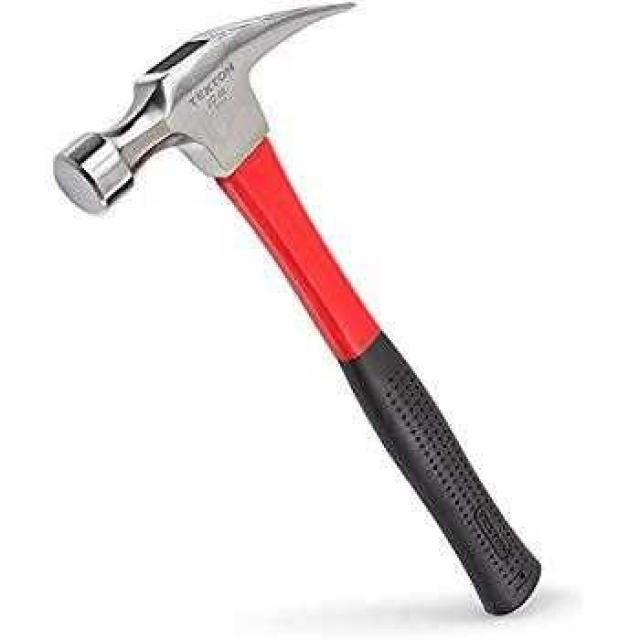hammer: (24, 6, 571, 608)
